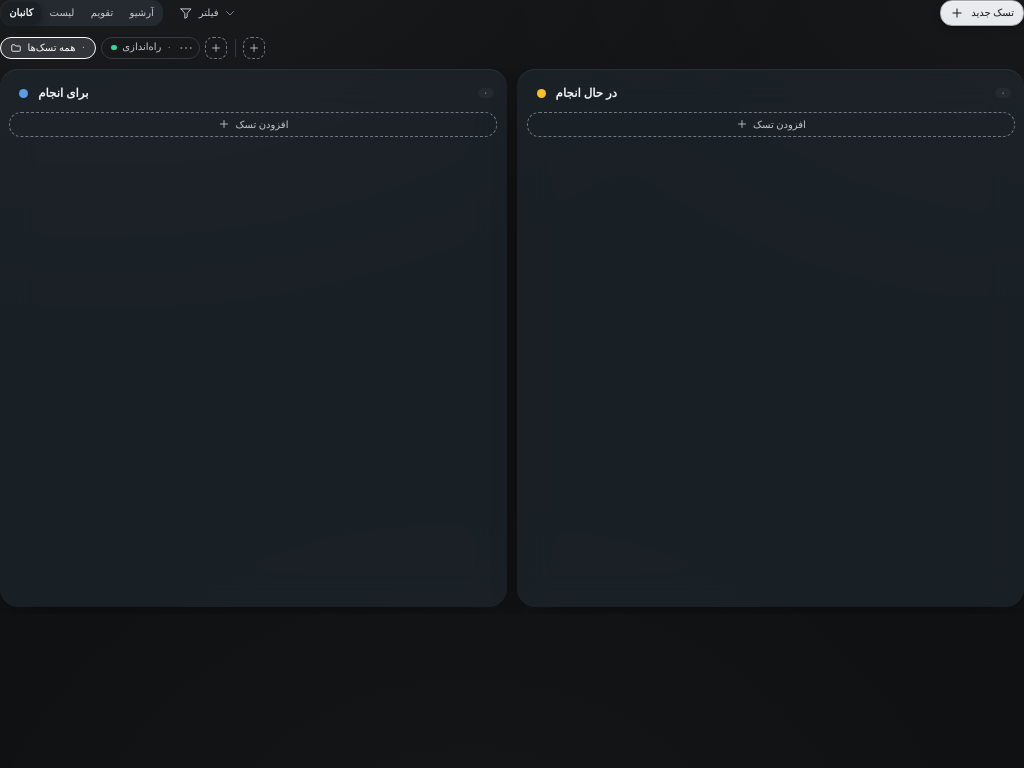
Test case: the archive keeps up with its own writes (2026-09-05) › a task deleted from the ARCHIVE view leaves the archive list
Click the button "آرشیو": (142, 13) top-left (122, 2), bottom-right (161, 24)
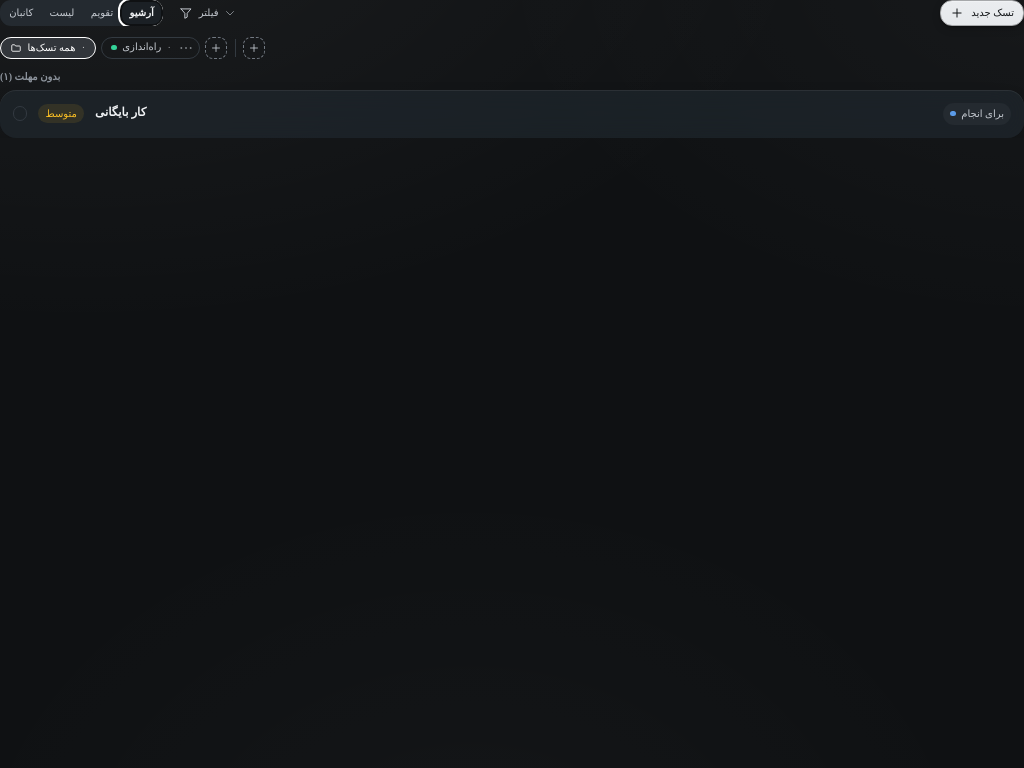
Click the text "کار بایگانی": (121, 112) top-left (95, 105), bottom-right (146, 119)
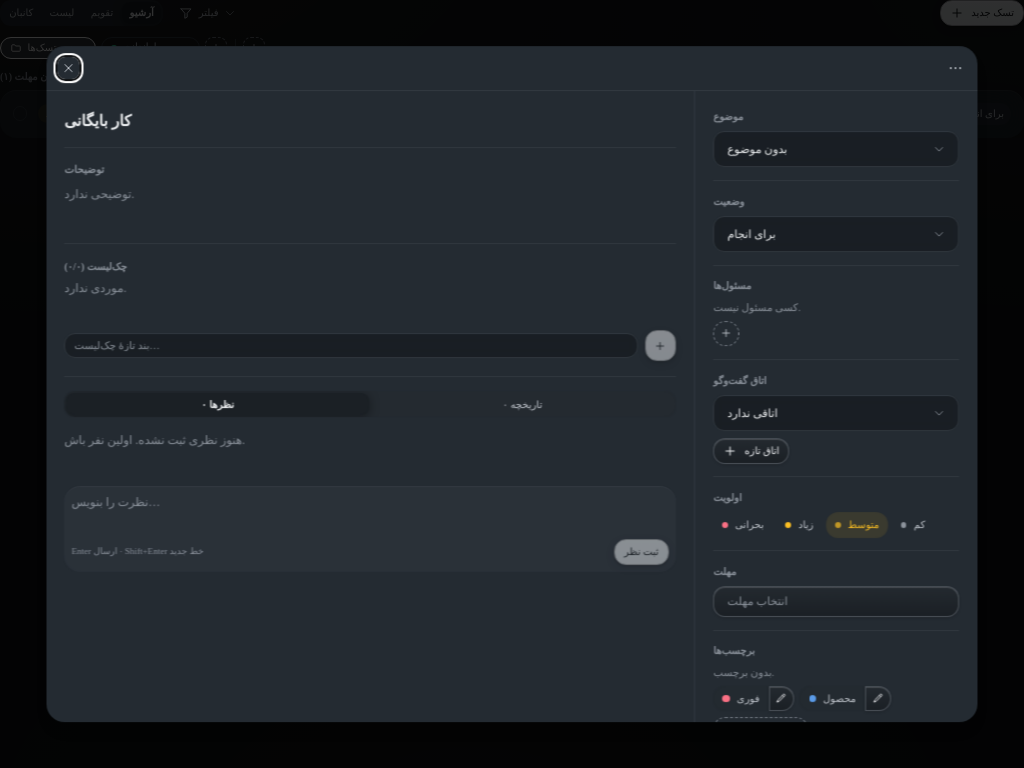
Click the button named "بیشتر": (956, 68) top-left (945, 57), bottom-right (967, 79)
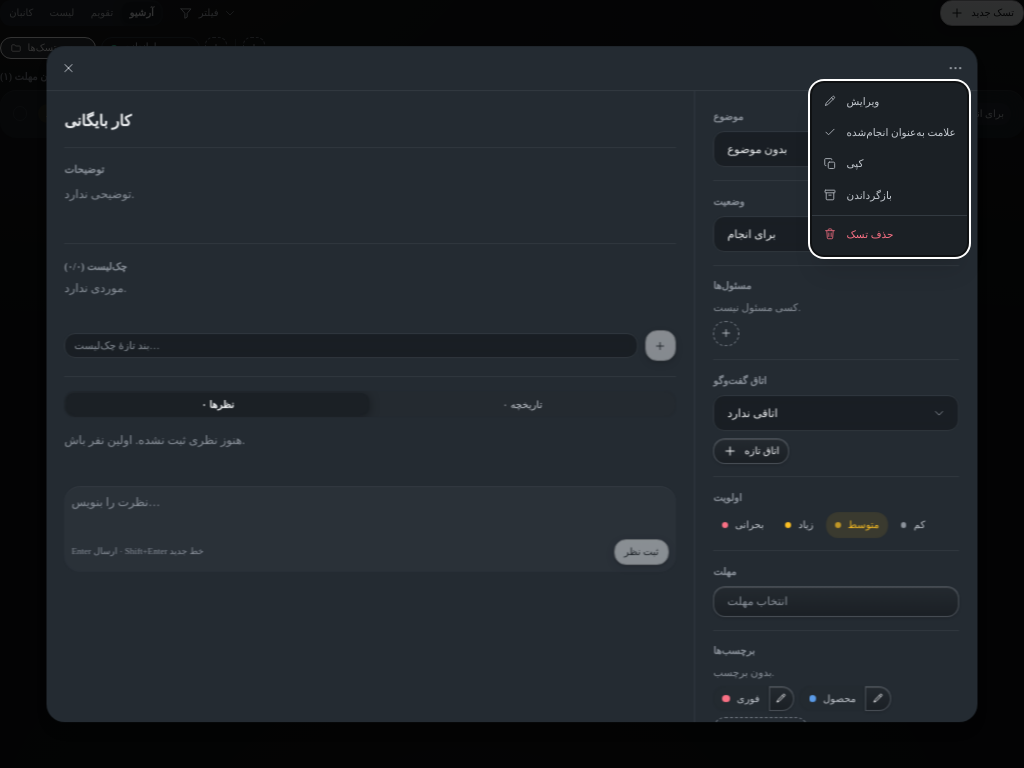
Click the menu item "حذف تسک": (858, 234) top-left (823, 227), bottom-right (894, 241)
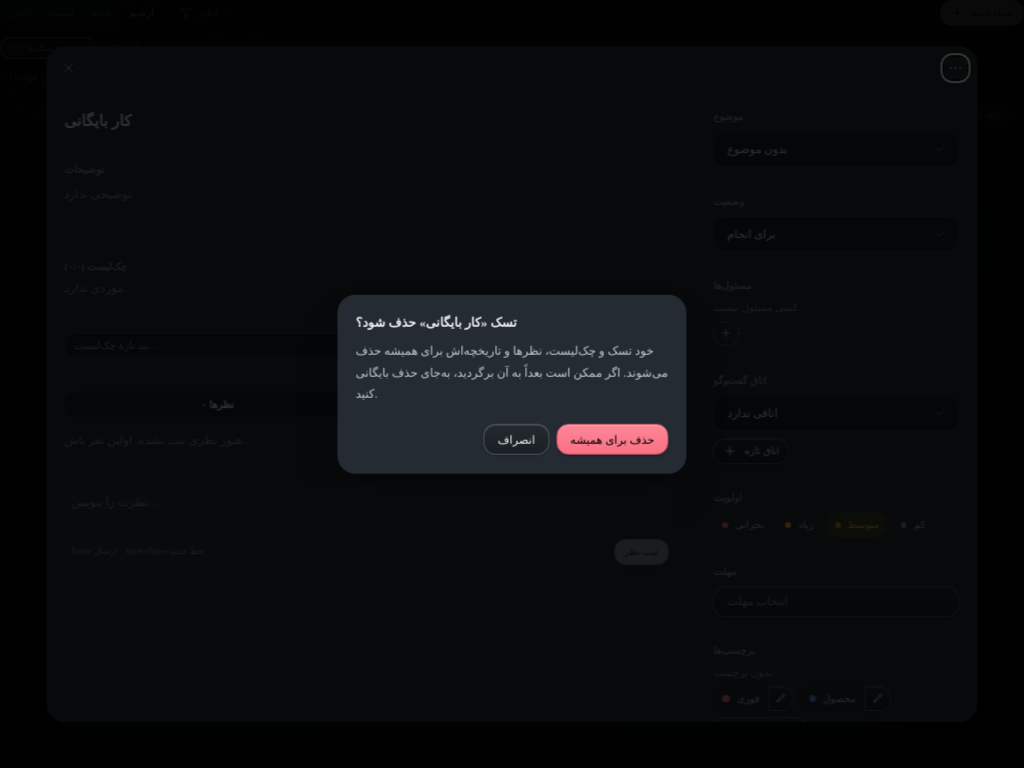
Click the button "حذف برای همیشه": (612, 440) top-left (556, 424), bottom-right (668, 455)
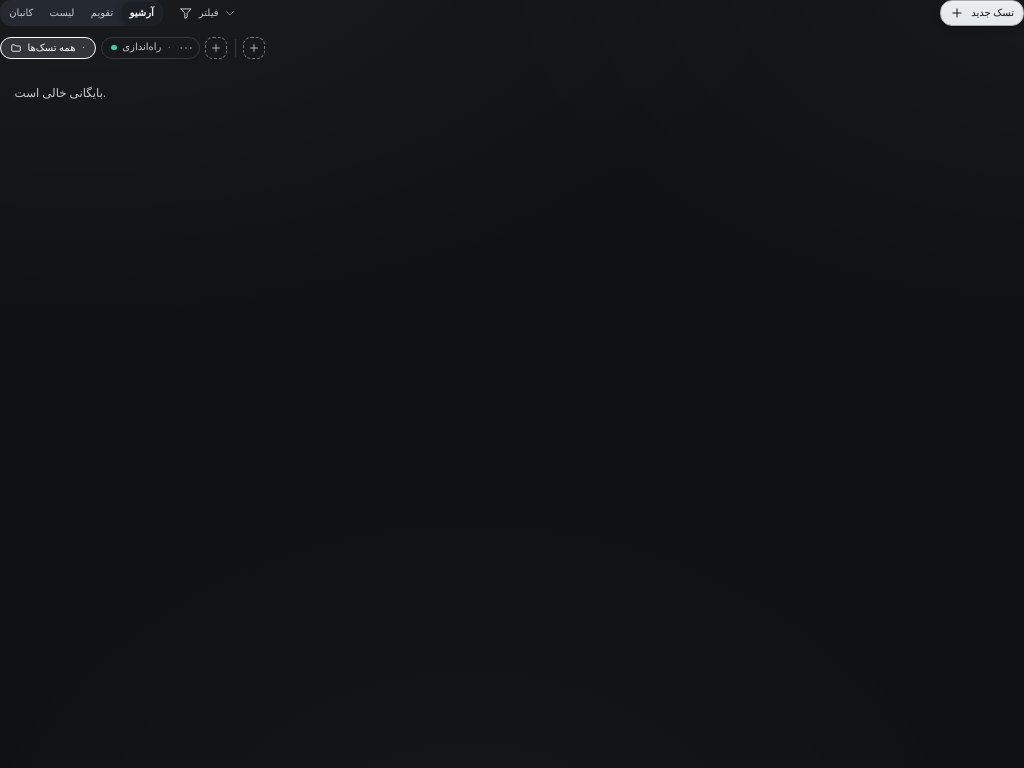
Expected: the button "کار بایگانی" is not shown
Now the text "بایگانی خالی است." is shown, box top-left (14, 86), bottom-right (106, 100)
